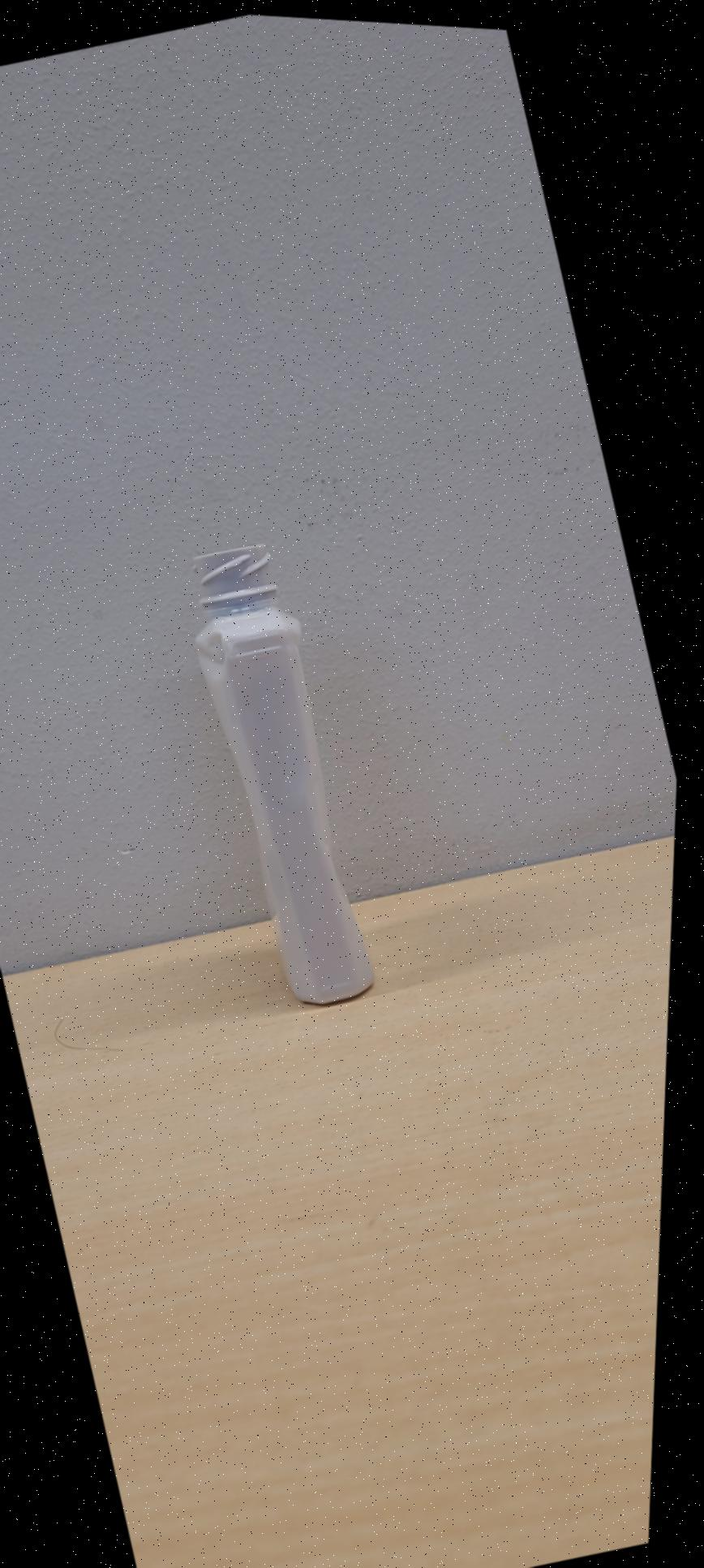bottle: (195, 544, 373, 1005)
